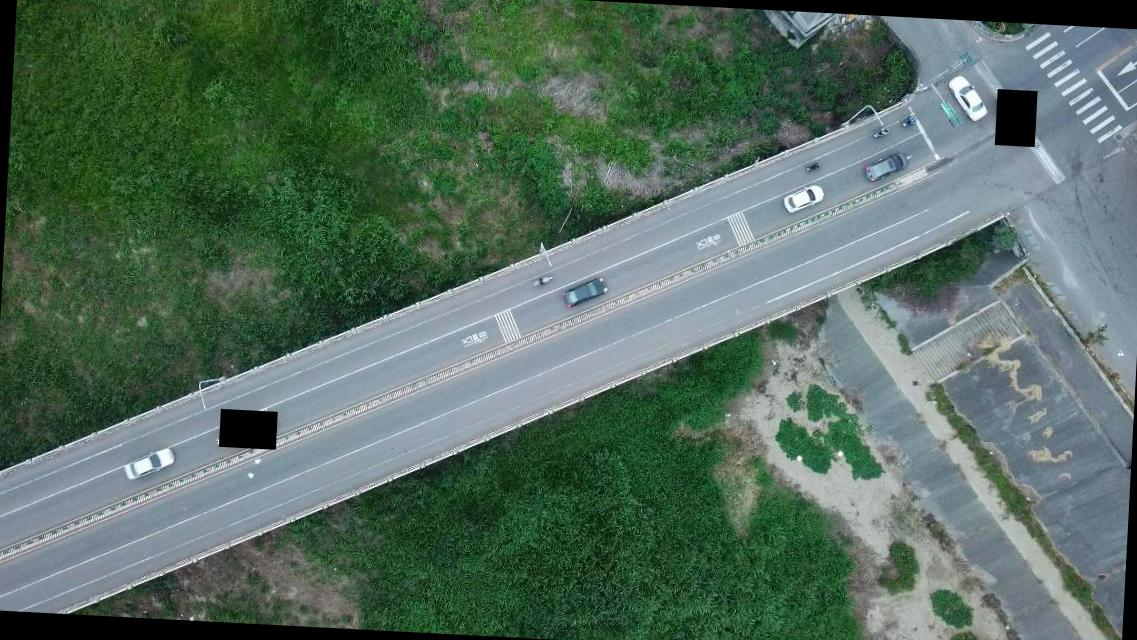vehicle: (944, 74, 988, 120), (124, 445, 175, 482), (560, 276, 608, 312), (863, 152, 908, 184), (780, 182, 823, 215)
